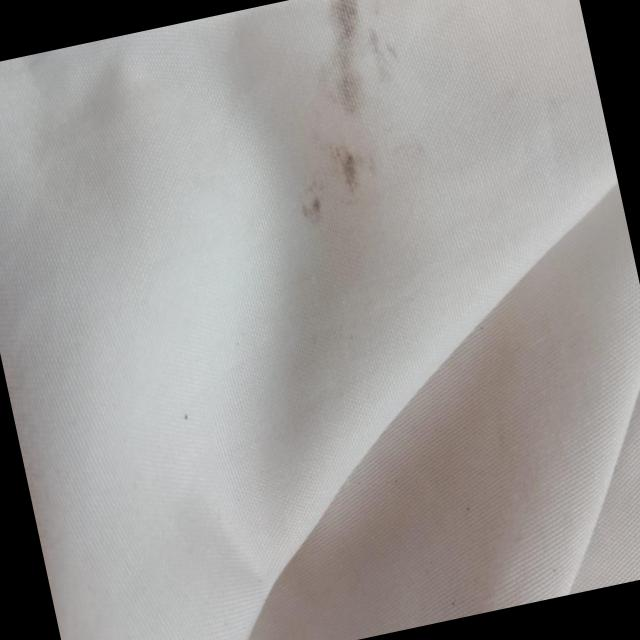stain: (254, 0, 441, 236)
